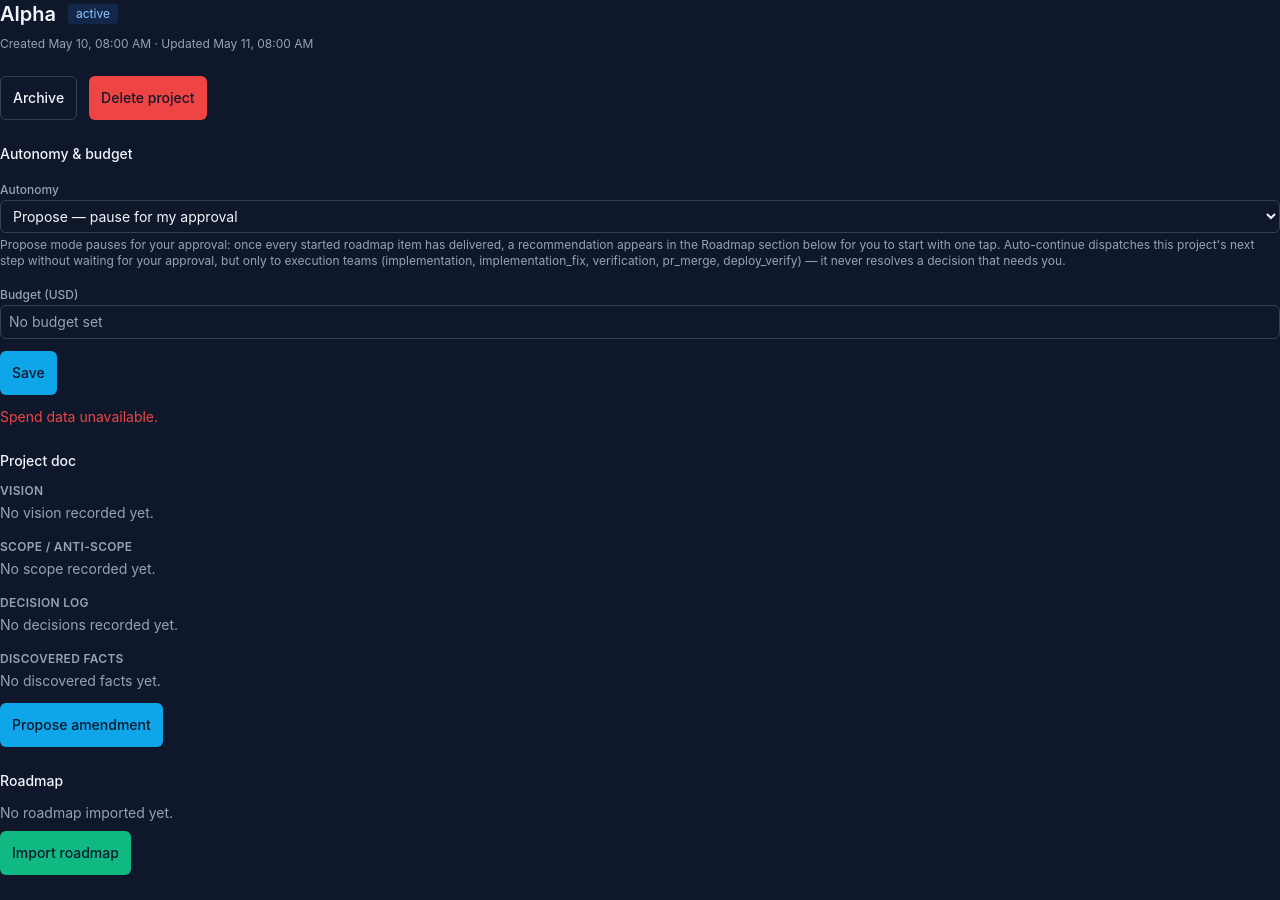
Project dialogs adopt the shared DialogFrame › restores focus to the launching button once the delete-project dialog unmounts
Step 1. Click the button with test id "project-delete-button" → (148, 98), box [89,76,207,120]
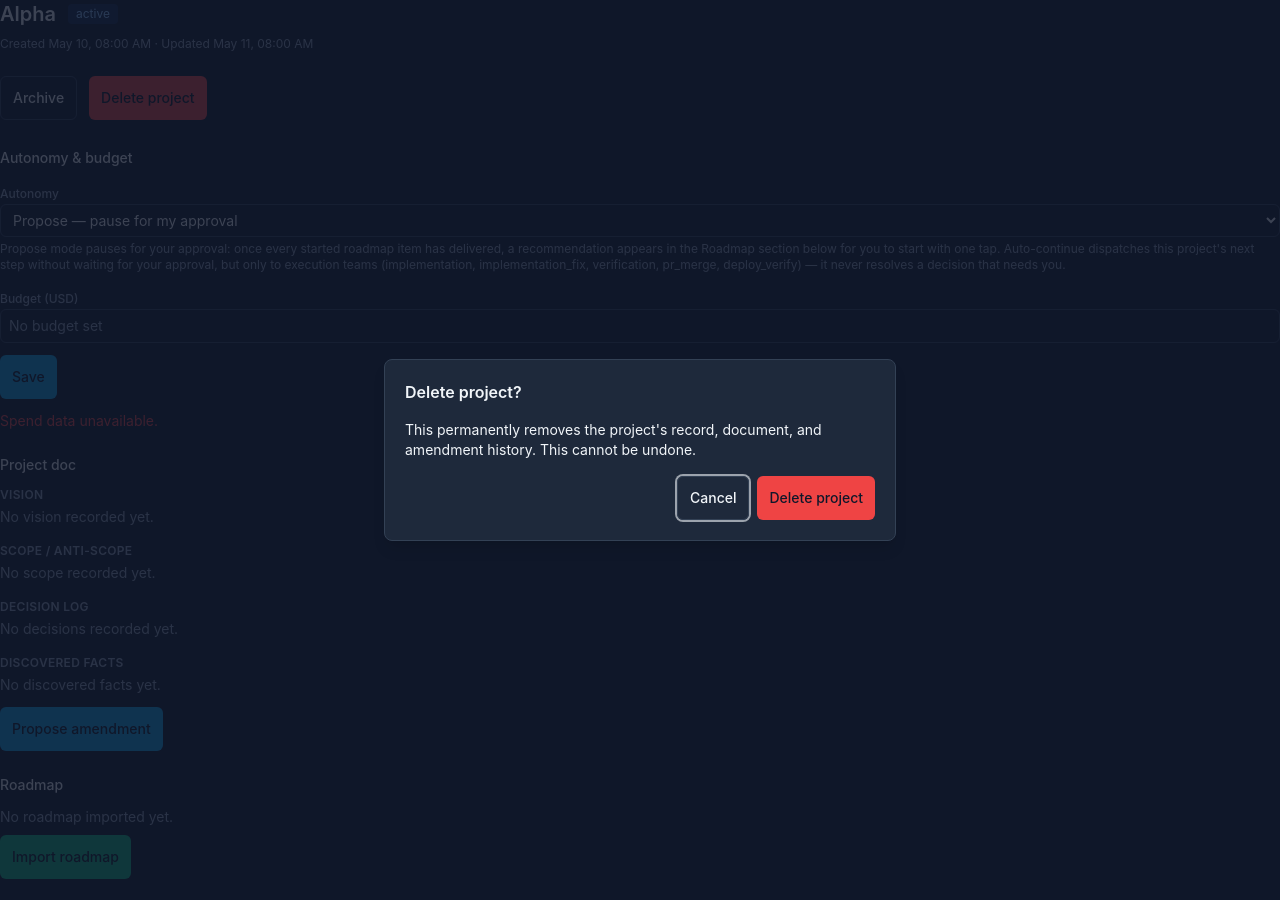
Step 2. Click the button "Cancel" → (713, 498), box [677,476,750,520]
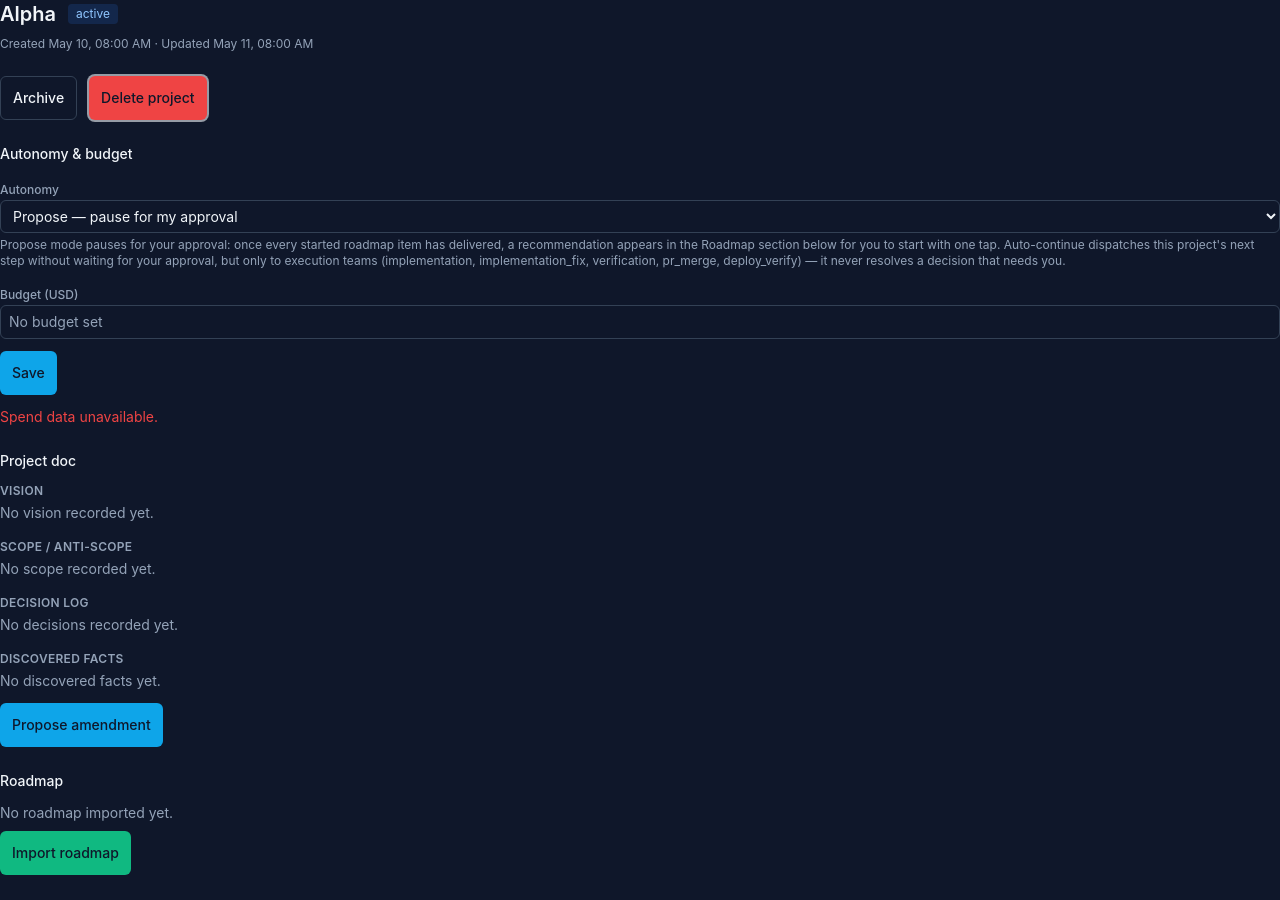
Expected: the dialog with test id "delete-project-dialog" is gone
